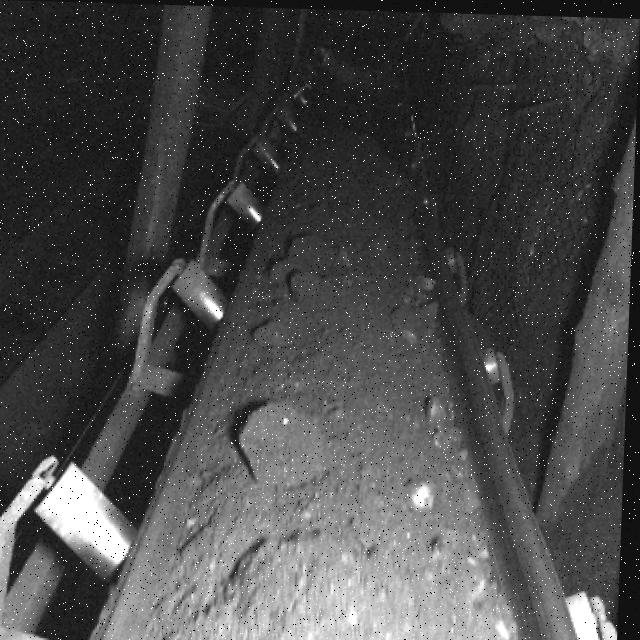large_sized_coal: (241, 397, 331, 486), (270, 233, 340, 300), (421, 393, 467, 451), (391, 301, 439, 344), (408, 477, 440, 512)
